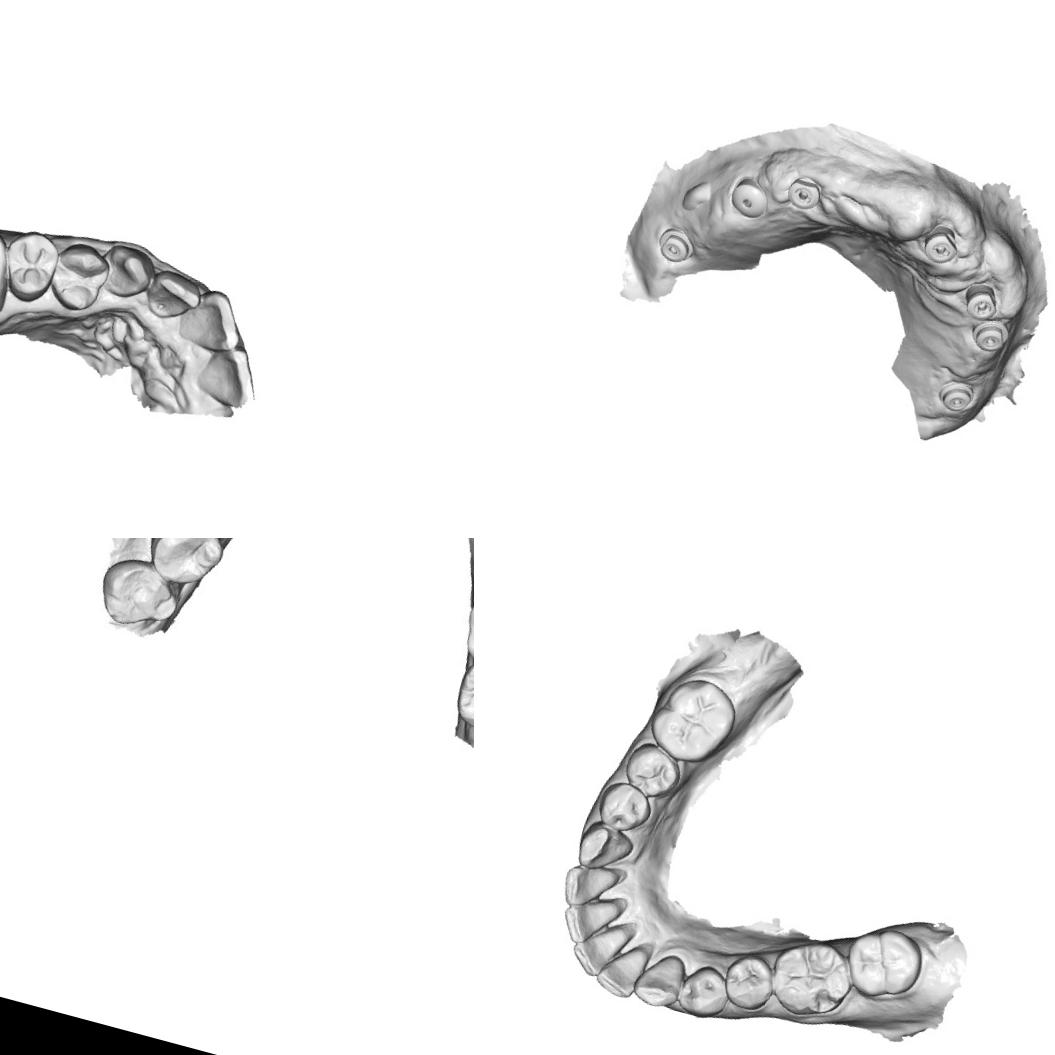canine: (92, 237, 161, 306), (572, 816, 639, 878), (628, 946, 690, 1012)
implant: (931, 376, 983, 426), (724, 172, 773, 222), (965, 312, 1013, 357), (652, 224, 698, 268)
implant_minus: (916, 218, 963, 268), (782, 171, 826, 214)
implant_plus: (958, 278, 1004, 325)
incisor: (171, 279, 254, 359), (186, 338, 263, 414), (137, 262, 208, 334), (556, 888, 623, 952), (592, 934, 652, 1002), (556, 858, 622, 916), (566, 921, 622, 981)
molar: (640, 667, 744, 773), (760, 929, 862, 1028), (89, 548, 190, 640), (838, 918, 930, 1008), (140, 538, 231, 595), (0, 216, 21, 329), (448, 656, 474, 739), (456, 589, 474, 678)
premolar: (43, 233, 115, 319), (0, 223, 65, 308), (618, 736, 687, 804), (716, 947, 780, 1015), (671, 958, 736, 1024), (590, 776, 658, 838)
